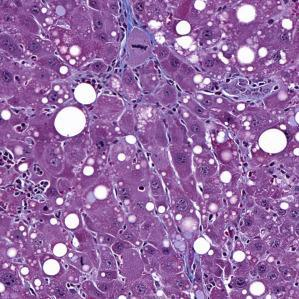fibrosis: (112, 4, 144, 46)
